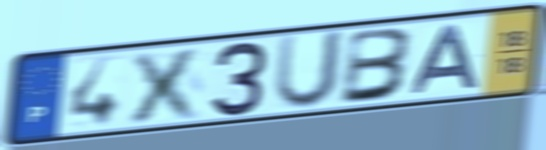3: (205, 37, 271, 119)
4: (67, 53, 124, 129)
A: (408, 22, 483, 96)
B: (337, 25, 418, 107)
U: (270, 27, 349, 112)
X: (123, 44, 208, 126)
